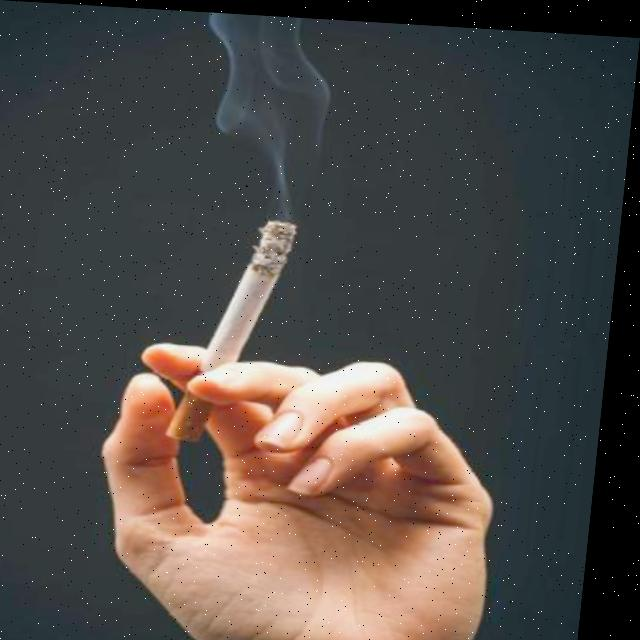cigarette: (173, 209, 303, 444)
